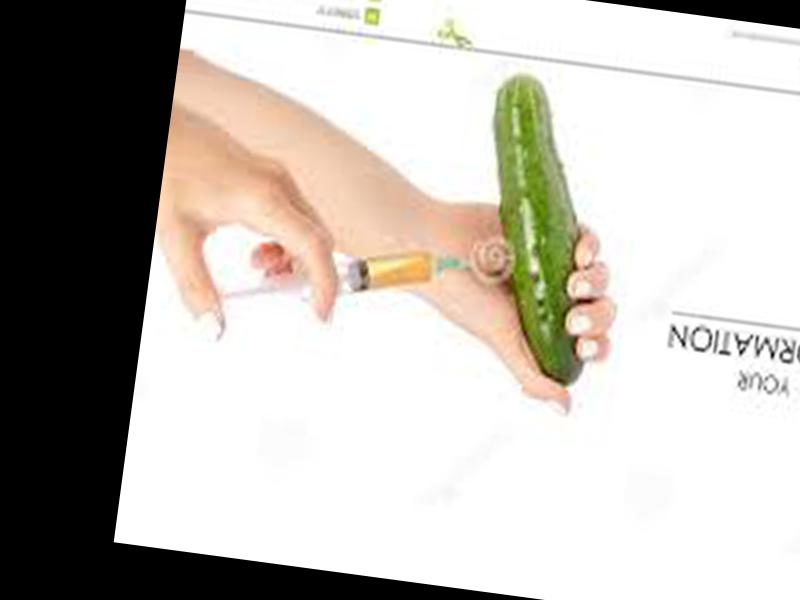Cucumber: (459, 71, 619, 387)
